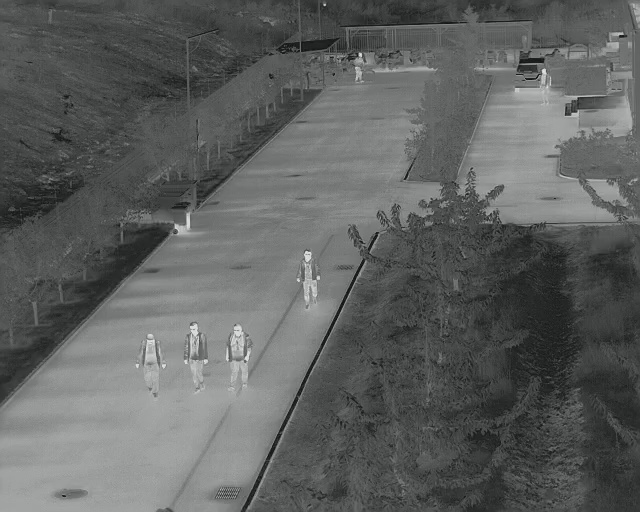person: (133, 331, 167, 399), (223, 322, 254, 393), (182, 319, 209, 397), (294, 246, 321, 311), (537, 66, 552, 108), (352, 50, 365, 85)
vehicle: (510, 55, 542, 95)
